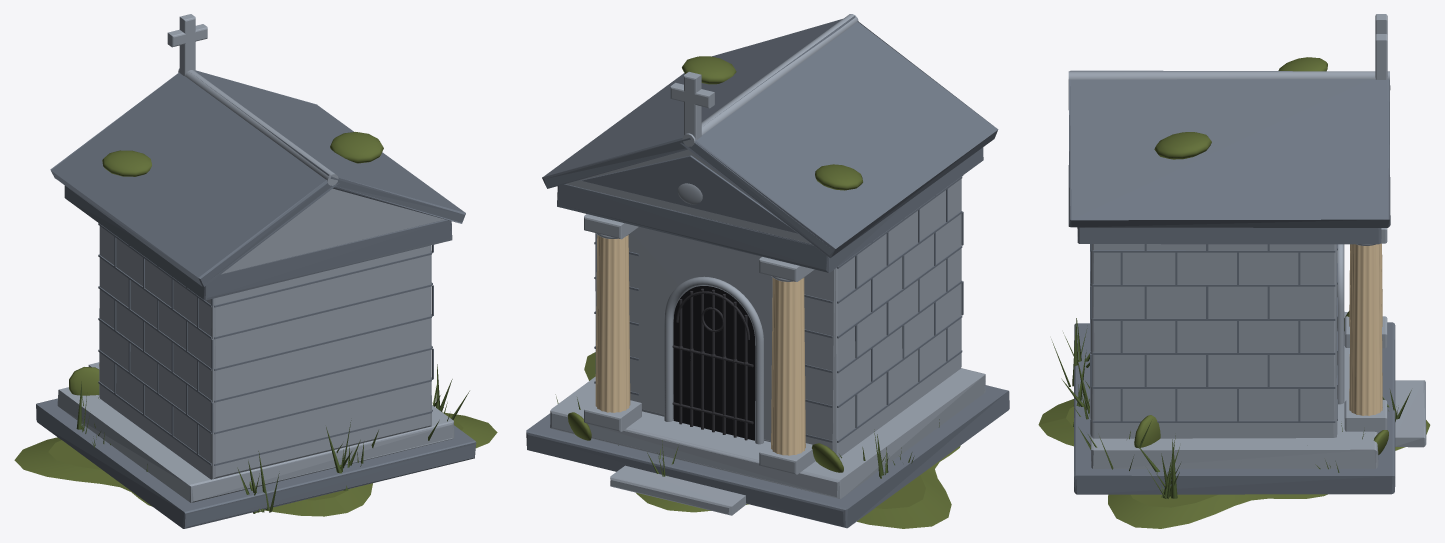
Rendered from BAYOU_MAUSOLEUM.glb.
The picture shows the model from 3 angles, left to right: view 1: azimuth 30°, elevation 25°; view 2: azimuth 150°, elevation 25°; view 3: azimuth 270°, elevation 25°; orthographic projection. The views are drawn at different scales.
Parts seen in each view (by area): view 1: Crypt, Roof (×2), Step (×2), Entablature, Joint, Pediment, Ground, Moss, Roof_Ridge, Grass, Cross; view 2: Roof (×2), Crypt, Step (×2), Column_Shaft (×2), Entablature, Door_Dark, Pediment_Tympanum, Joint, Gate_Bars, Ground, Door_Frame, Step_Front (+7 smaller); view 3: Roof, Crypt, Step (×2), Joint, Column_Shaft, Entablature, Ground, Roof_Ridge, Moss, Grass, Step_Front, Door_Frame (+2 smaller).
Boxes of the visible parts, bbox=[...] form: Crypt: bbox=[99, 226, 431, 479]; Roof (×2): bbox=[50, 70, 465, 286]; Step (×2): bbox=[36, 387, 476, 528]; Entablature: bbox=[64, 185, 452, 300]; Joint: bbox=[98, 223, 433, 465]; Pediment: bbox=[221, 188, 444, 274]; Ground: bbox=[14, 412, 497, 516]; Moss: bbox=[69, 132, 383, 395]; Roof_Ridge: bbox=[178, 68, 338, 185]; Grass: bbox=[76, 364, 469, 513]; Cross: bbox=[179, 14, 195, 75]; Roof (×2): bbox=[542, 16, 998, 257]; Crypt: bbox=[595, 179, 961, 457]; Step (×2): bbox=[526, 368, 1009, 528]; Column_Shaft (×2): bbox=[595, 235, 805, 455]; Entablature: bbox=[557, 147, 983, 272]; Door_Dark: bbox=[673, 286, 755, 440]; Pediment_Tympanum: bbox=[581, 155, 797, 233]; Joint: bbox=[594, 175, 963, 442]; Gate_Bars: bbox=[672, 288, 753, 440]; Ground: bbox=[584, 352, 960, 528]; Door_Frame: bbox=[664, 276, 763, 444]; Step_Front: bbox=[610, 465, 746, 515]; Roof: bbox=[1068, 70, 1390, 227]; Crypt: bbox=[1090, 244, 1337, 438]; Step (×2): bbox=[1074, 311, 1395, 494]; Joint: bbox=[1090, 244, 1337, 422]; Column_Shaft: bbox=[1349, 243, 1382, 415]; Entablature: bbox=[1077, 227, 1381, 244]; Ground: bbox=[1038, 399, 1430, 528]; Roof_Ridge: bbox=[1068, 71, 1389, 80]; Moss: bbox=[1134, 57, 1388, 454]; Grass: bbox=[1051, 318, 1411, 498]; Step_Front: bbox=[1395, 380, 1426, 447]; Door_Frame: bbox=[1337, 244, 1344, 404].
Size of the model in its own units: 14.41 by 13.17 by 11.47.
